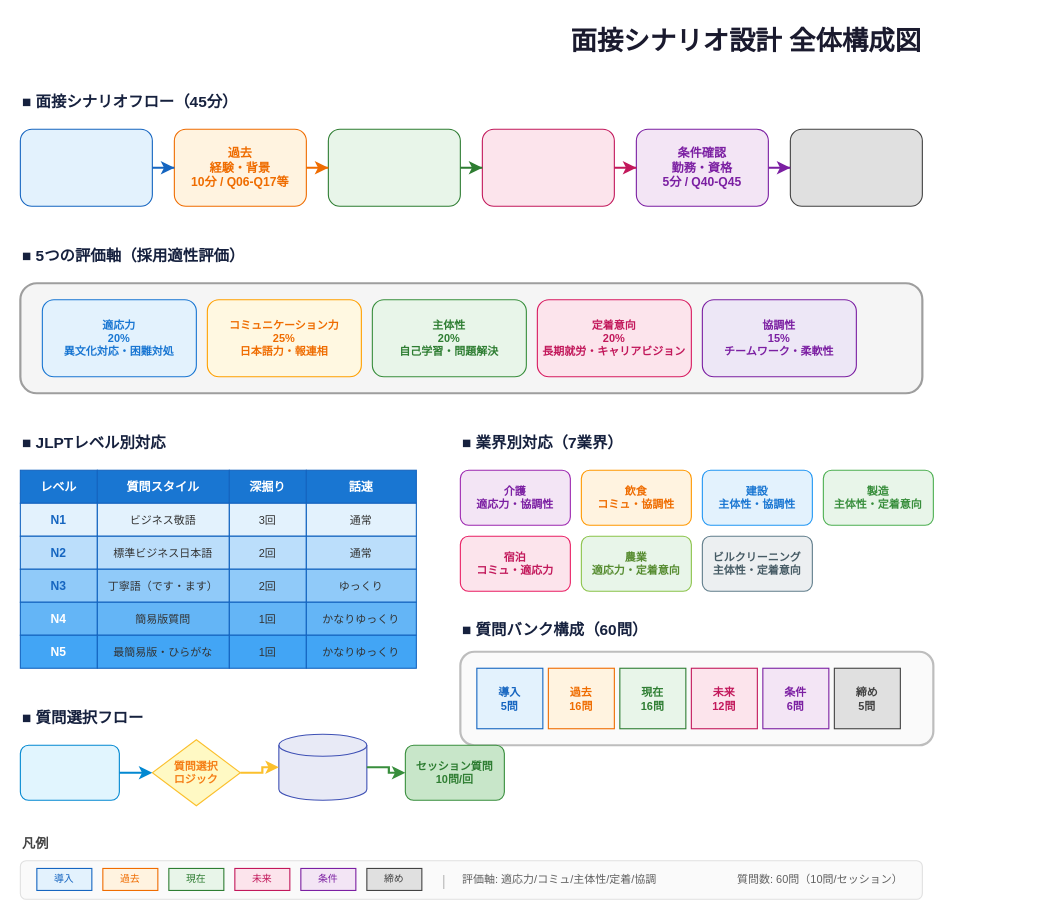
The diagram is 1040 pixels wide and 919 high, and some of its shapes have lost their labels. Each missing label, with the centre of its shape:
クロージング 逆質問・締め 5分 / Q46-Q50: point (855, 167)
ユーザー情報 （JLPT/業界）: point (69, 772)
導入 アイスブレイク 5分 / Q01-Q05: point (85, 167)
未来 意欲・ビジョン 10分 / Q30-Q39等: point (547, 167)
現在 能力・適性 10分 / Q18-Q29等: point (393, 167)
質問バンク 60問: point (322, 766)
